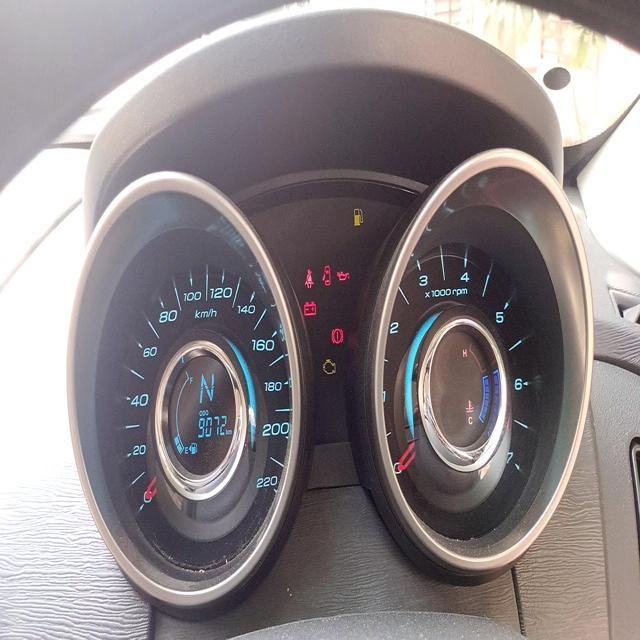odometer: (194, 412, 228, 440)
